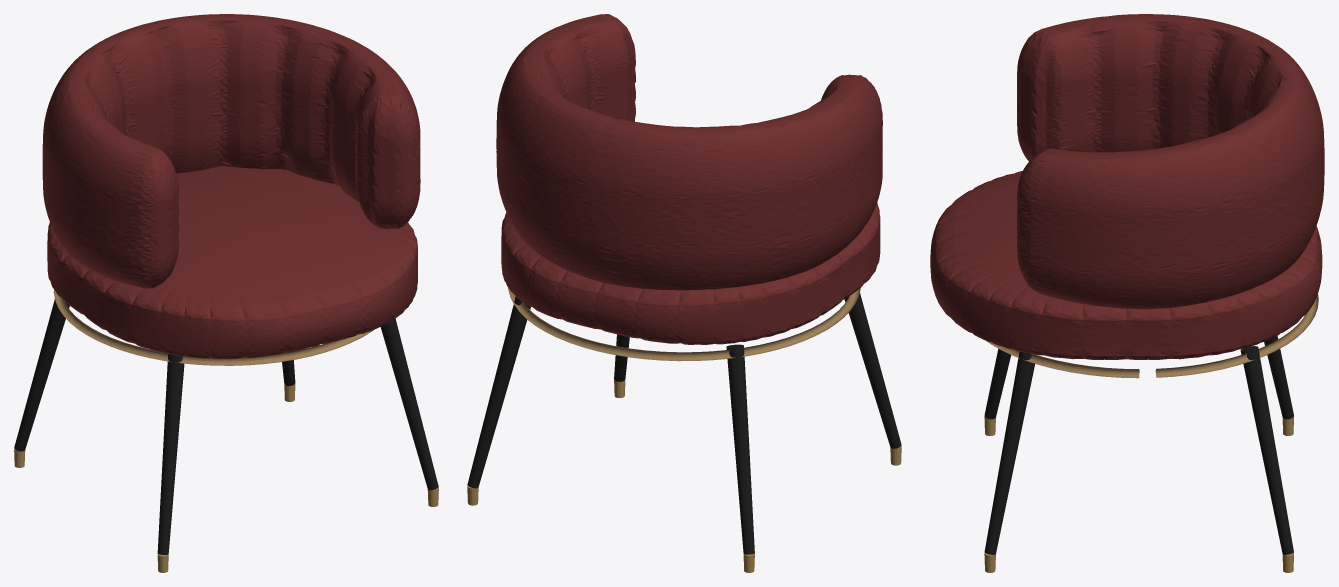
Rendered from cask.glb.
3 renders of one model, left to right at view 1: azimuth 30°, elevation 25°; view 2: azimuth 150°, elevation 25°; view 3: azimuth 270°, elevation 25°, orthographic. The views are drawn at different scales.
Parts seen in each view (by area): view 1: back, seat, leg0, ring, leg1, leg2; view 2: back, seat, ring, leg2, leg3, leg0; view 3: back, seat, leg3, leg1, ring, leg2, leg0.
Boxes of the visible parts, box(x1,y1,x2,y2) form: back: box(42, 14, 420, 288); seat: box(47, 166, 417, 359); leg0: box(157, 354, 184, 554); ring: box(53, 289, 373, 365); leg1: box(380, 318, 438, 490); leg2: box(14, 299, 69, 451); back: box(496, 14, 882, 290); seat: box(501, 203, 880, 344); ring: box(508, 287, 860, 361); leg2: box(726, 344, 754, 554); leg3: box(467, 296, 530, 488); leg0: box(844, 293, 901, 448); back: box(1017, 14, 1324, 309); seat: box(930, 171, 1322, 359); leg3: box(1240, 346, 1293, 554); leg1: box(984, 351, 1034, 554); ring: box(987, 294, 1318, 378); leg2: box(1264, 335, 1293, 419); leg0: box(984, 349, 1011, 419).
Bounding box in the file's own units: 0.6062 × 0.7226 × 0.6084.
